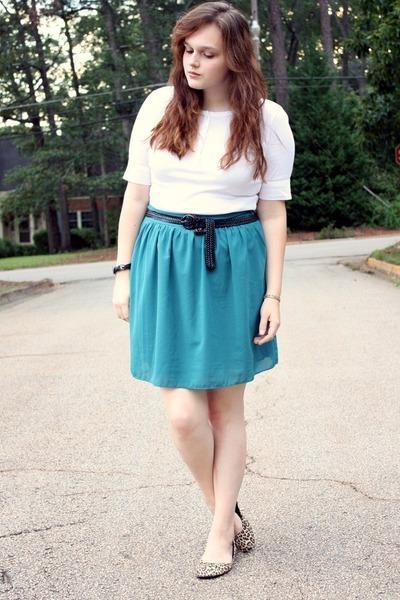shirt: (123, 86, 294, 214)
shoe: (185, 530, 254, 577)
skirt: (127, 204, 277, 391)
